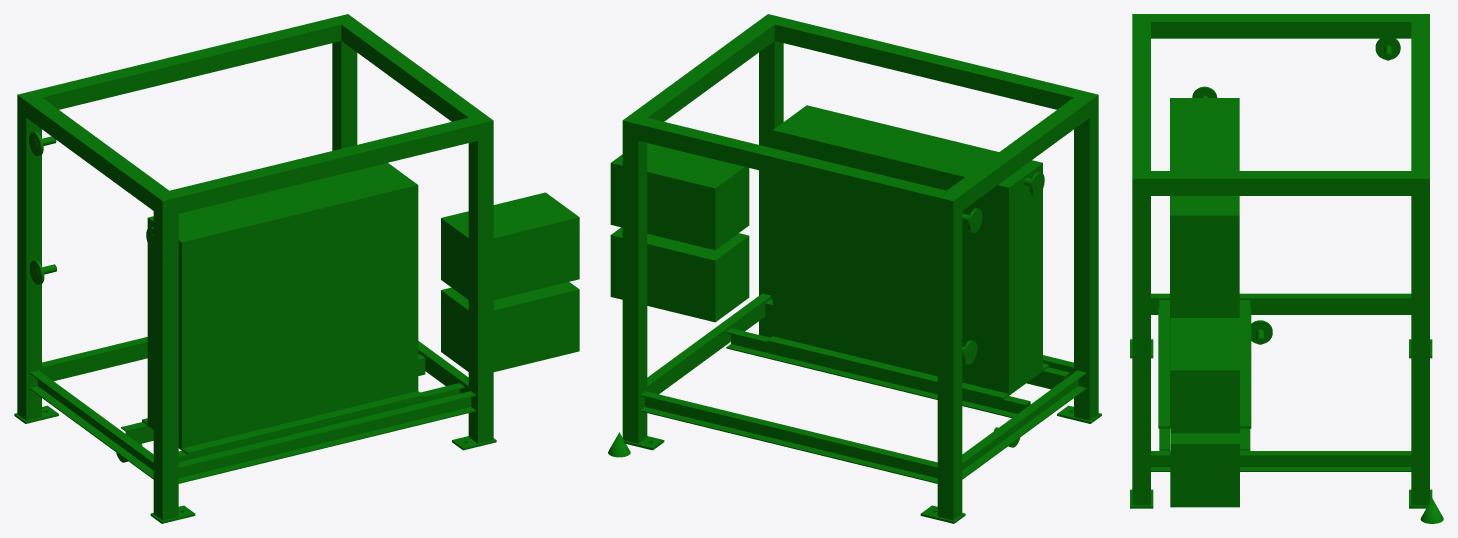
File: Image-1710907553343-2281220860592_27-CZ51.fbx
3 views of the same model, side by side, from view 1: azimuth 30°, elevation 25°; view 2: azimuth 150°, elevation 25°; view 3: azimuth 270°, elevation 25° (orthographic). The views are drawn at different scales.
Parts seen in each view (by area): view 1: BOX 9 of EQUIPMENT /27-CZ51, BOX 10 of EQUIPMENT /27-CZ51, BOX 5 of EQUIPMENT /27-CZ51, BOX 11 of EQUIPMENT /27-CZ51, BOX 7 of EQUIPMENT /27-CZ51, BOX 8 of EQUIPMENT /27-CZ51, BOX 4 of EQUIPMENT /27-CZ51, BOX 6 of EQUIPMENT /27-CZ51, EXTRUSION 6 of EQUIPMENT /27-CZ51, BOX 3 of EQUIPMENT /27-CZ51, BOX 2 of EQUIPMENT /27-CZ51, EXTRUSION 2 of EQUIPMENT /27-CZ51 (+6 smaller); view 2: BOX 9 of EQUIPMENT /27-CZ51, BOX 10 of EQUIPMENT /27-CZ51, BOX 11 of EQUIPMENT /27-CZ51, BOX 4 of EQUIPMENT /27-CZ51, BOX 6 of EQUIPMENT /27-CZ51, BOX 1 of EQUIPMENT /27-CZ51, BOX 5 of EQUIPMENT /27-CZ51, BOX 7 of EQUIPMENT /27-CZ51, EXTRUSION 3 of EQUIPMENT /27-CZ51, BOX 3 of EQUIPMENT /27-CZ51, EXTRUSION 5 of EQUIPMENT /27-CZ51, BOX 2 of EQUIPMENT /27-CZ51 (+5 smaller); view 3: BOX 9 of EQUIPMENT /27-CZ51, BOX 10 of EQUIPMENT /27-CZ51, BOX 2 of EQUIPMENT /27-CZ51, BOX 3 of EQUIPMENT /27-CZ51, BOX 1 of EQUIPMENT /27-CZ51, BOX 8 of EQUIPMENT /27-CZ51, BOX 11 of EQUIPMENT /27-CZ51, EXTRUSION 1 of EQUIPMENT /27-CZ51, EXTRUSION 2 of EQUIPMENT /27-CZ51, BOX 5 of EQUIPMENT /27-CZ51, BOX 4 of EQUIPMENT /27-CZ51, BOX 12 of EQUIPMENT /27-CZ51 (+2 smaller).
Part boxes in pixels (x1,y1,x2,y2): BOX 9 of EQUIPMENT /27-CZ51: (147, 163, 418, 448); BOX 10 of EQUIPMENT /27-CZ51: (441, 192, 579, 299); BOX 5 of EQUIPMENT /27-CZ51: (154, 114, 493, 217); BOX 11 of EQUIPMENT /27-CZ51: (441, 282, 579, 371); BOX 7 of EQUIPMENT /27-CZ51: (153, 198, 178, 520); BOX 8 of EQUIPMENT /27-CZ51: (468, 123, 493, 443); BOX 4 of EQUIPMENT /27-CZ51: (17, 14, 354, 116); BOX 6 of EQUIPMENT /27-CZ51: (17, 96, 41, 420); EXTRUSION 6 of EQUIPMENT /27-CZ51: (178, 391, 475, 483); BOX 3 of EQUIPMENT /27-CZ51: (17, 91, 178, 217); BOX 2 of EQUIPMENT /27-CZ51: (333, 14, 493, 140); EXTRUSION 2 of EQUIPMENT /27-CZ51: (29, 370, 153, 479); BOX 9 of EQUIPMENT /27-CZ51: (772, 105, 1042, 393); BOX 10 of EQUIPMENT /27-CZ51: (610, 143, 749, 250); BOX 11 of EQUIPMENT /27-CZ51: (610, 227, 749, 322); BOX 4 of EQUIPMENT /27-CZ51: (623, 114, 962, 217); BOX 6 of EQUIPMENT /27-CZ51: (937, 195, 962, 520); BOX 1 of EQUIPMENT /27-CZ51: (622, 120, 647, 443); BOX 5 of EQUIPMENT /27-CZ51: (759, 14, 1098, 116); BOX 7 of EQUIPMENT /27-CZ51: (1074, 96, 1098, 420); EXTRUSION 3 of EQUIPMENT /27-CZ51: (640, 391, 937, 483); BOX 3 of EQUIPMENT /27-CZ51: (937, 91, 1098, 217); EXTRUSION 5 of EQUIPMENT /27-CZ51: (726, 328, 1030, 417); BOX 2 of EQUIPMENT /27-CZ51: (622, 14, 782, 140); BOX 9 of EQUIPMENT /27-CZ51: (1170, 98, 1239, 425); BOX 10 of EQUIPMENT /27-CZ51: (1170, 318, 1239, 433); BOX 2 of EQUIPMENT /27-CZ51: (1132, 171, 1429, 195); BOX 3 of EQUIPMENT /27-CZ51: (1132, 14, 1429, 38); BOX 1 of EQUIPMENT /27-CZ51: (1411, 179, 1429, 505); BOX 8 of EQUIPMENT /27-CZ51: (1132, 179, 1150, 505); BOX 11 of EQUIPMENT /27-CZ51: (1170, 433, 1239, 507); EXTRUSION 1 of EQUIPMENT /27-CZ51: (1151, 451, 1411, 471); EXTRUSION 2 of EQUIPMENT /27-CZ51: (1151, 293, 1411, 314); BOX 5 of EQUIPMENT /27-CZ51: (1132, 14, 1150, 195); BOX 4 of EQUIPMENT /27-CZ51: (1411, 14, 1429, 195); BOX 12 of EQUIPMENT /27-CZ51: (1158, 308, 1251, 428).
Bounding box in the file's own units: 2.23 × 1.35 × 1.61.
